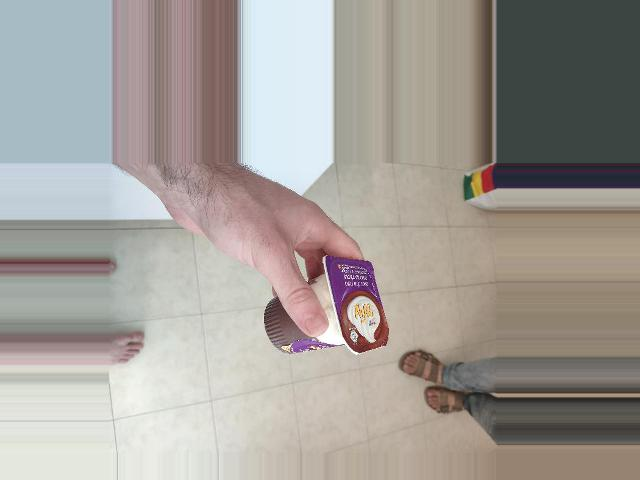milky: (305, 276, 393, 400)
